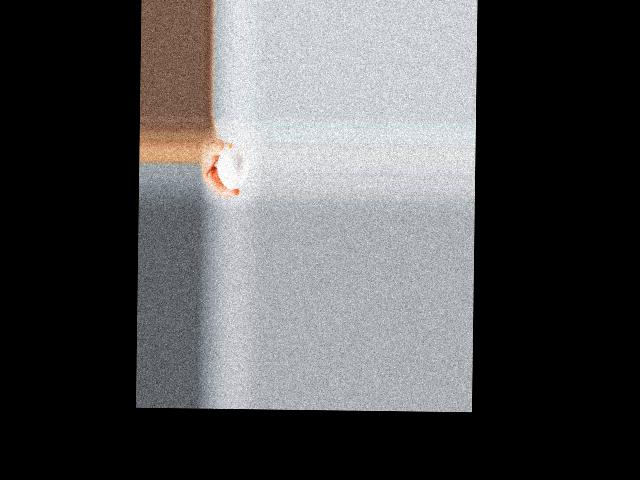egg: (216, 148, 248, 190)
